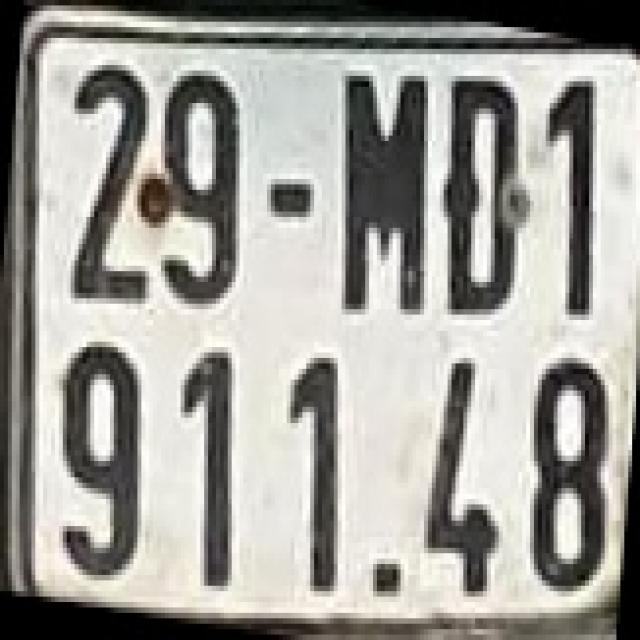1: (173, 342, 247, 591), (283, 347, 353, 597), (546, 76, 604, 320)
2: (67, 59, 153, 304)
4: (420, 352, 503, 596)
8: (526, 352, 609, 596)
9: (51, 337, 149, 580), (153, 65, 247, 309)
D: (440, 71, 526, 320)
M: (332, 60, 430, 320)
